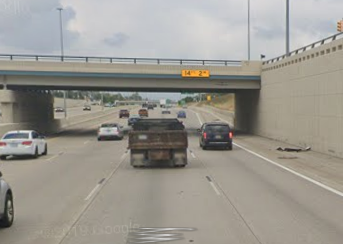1: (183, 69, 188, 76)
2: (197, 70, 203, 77)
4: (186, 70, 191, 77)
overheadsign: (182, 69, 209, 79)
